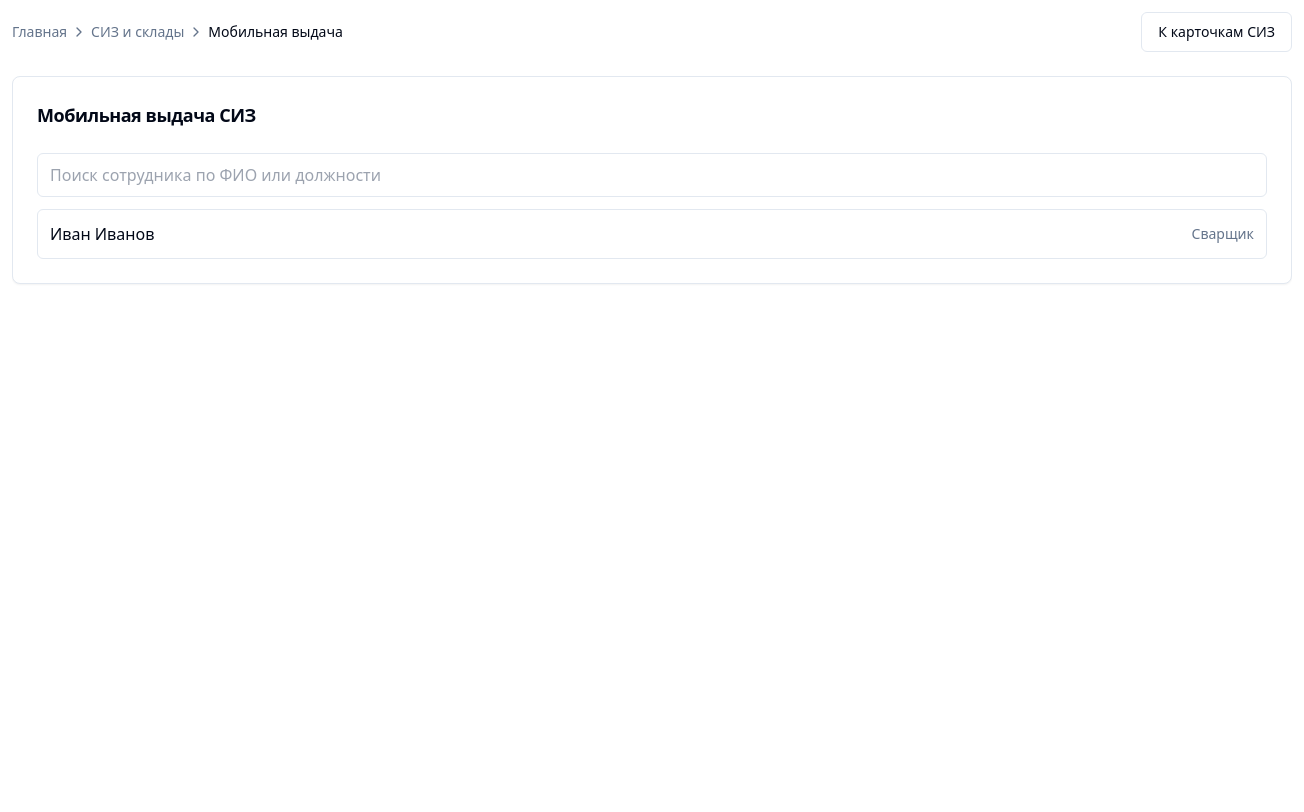
Test: MobileIssuePage — items & cart › hides on-hand badge when stock levels unavailable (degraded)
Click the text "Иван Иванов": (102, 234) [50, 222, 154, 246]
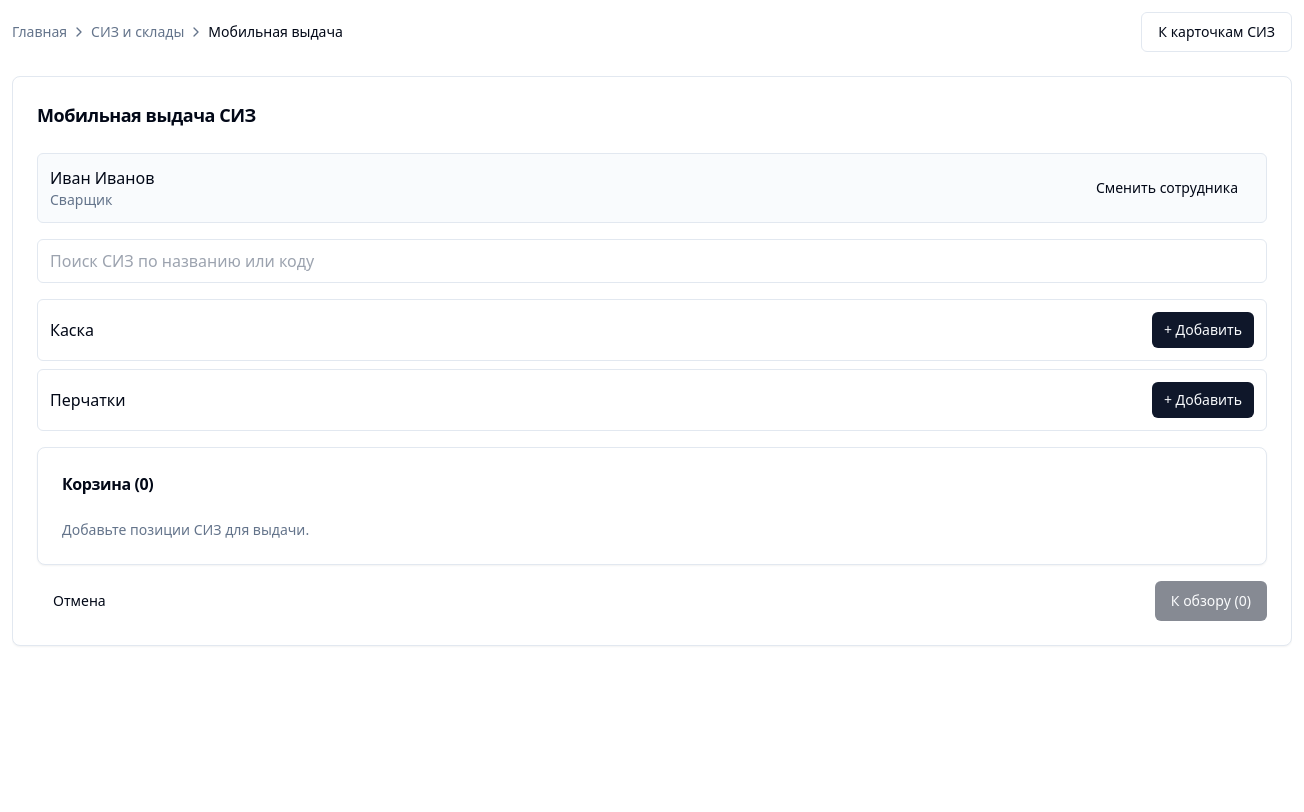
Check: the search field labelled "Поиск СИЗ" is shown, box [37, 239, 1267, 283]
Check: the text "Каска" is shown, box [50, 318, 94, 342]
